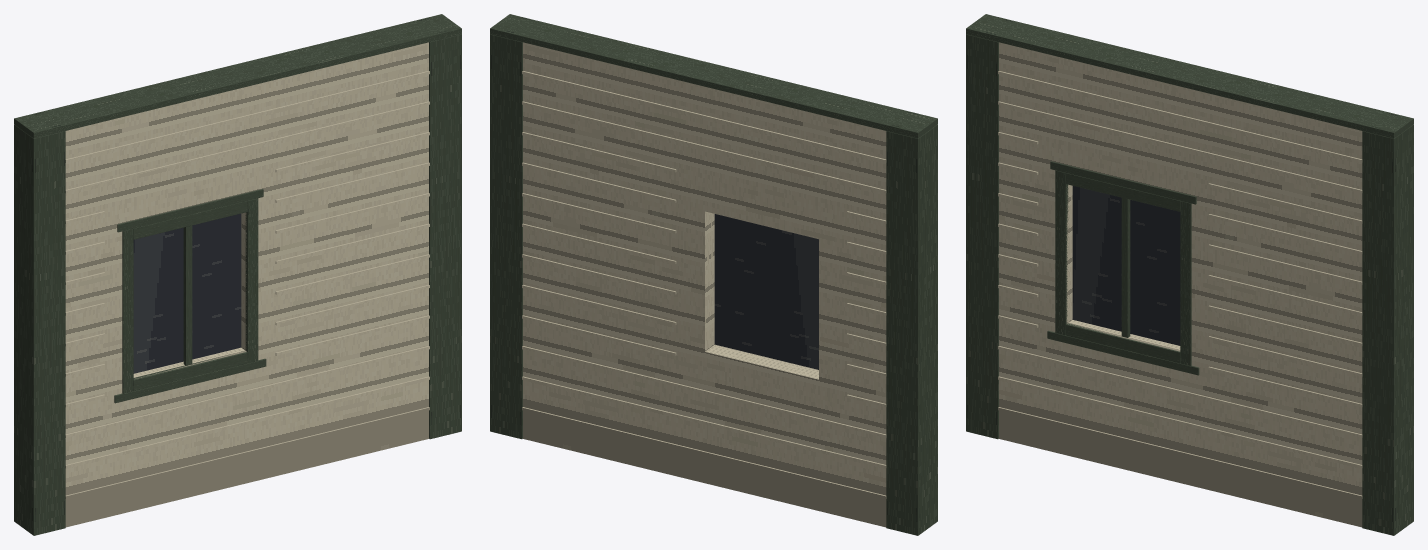
Rendered from house_01_wall_window.glb.
3 renders of one model, left to right at view 1: azimuth 30°, elevation 25°; view 2: azimuth 150°, elevation 25°; view 3: azimuth 330°, elevation 25°, orthographic.
Parts seen in each view (by area): view 1: house_01_wall_window; view 2: house_01_wall_window; view 3: house_01_wall_window.
Boxes of the visible parts, x1,y1,x2,y2 form: house_01_wall_window: (14,14,461,535); house_01_wall_window: (490,14,937,535); house_01_wall_window: (966,14,1413,535).
Bounding box in the file's own units: 3 × 2.7 × 0.24.
Materials: 3 (3 with a texture image).
